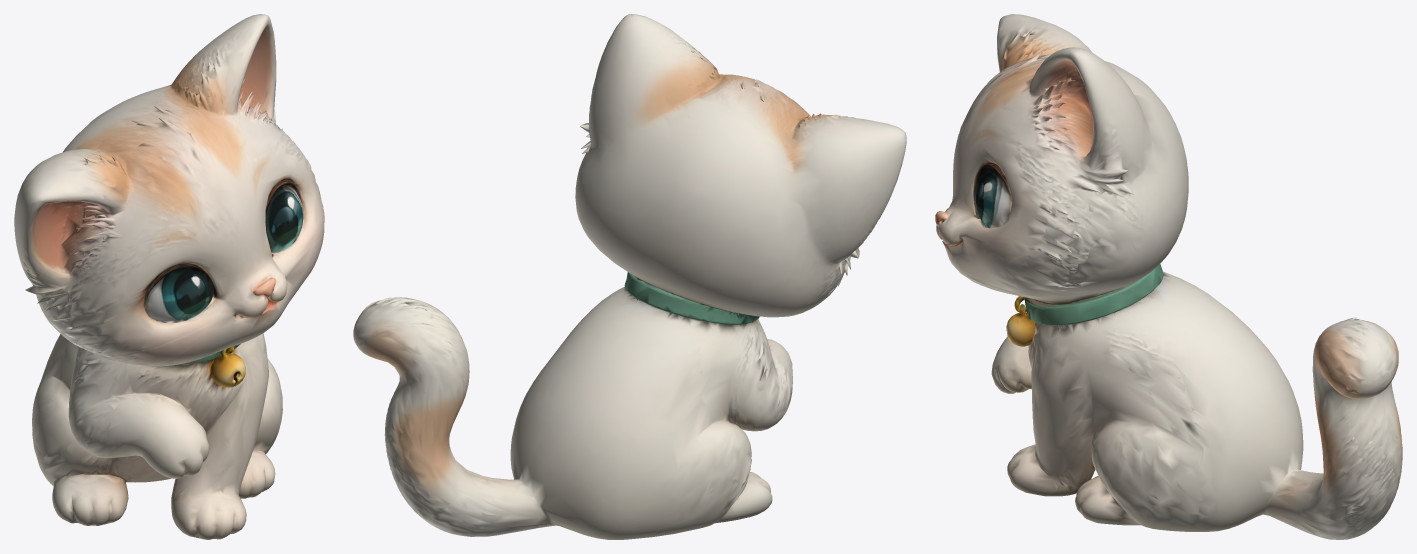
File: chibi-kitten.glb
The picture shows the model from 3 angles, left to right: view 1: azimuth 30°, elevation 25°; view 2: azimuth 150°, elevation 25°; view 3: azimuth 270°, elevation 25°; orthographic projection. The views are drawn at different scales.
Visible parts, largest first — view 1: node_0; view 2: node_0; view 3: node_0.
Part boxes in pixels (box(x1,y1,x2,y2)): node_0: box(14, 14, 324, 539); node_0: box(353, 14, 906, 539); node_0: box(935, 14, 1402, 539).
Bounding box in the file's own units: 0.8245 × 0.9055 × 0.8226.
Materials: 1 (1 with a texture image).
